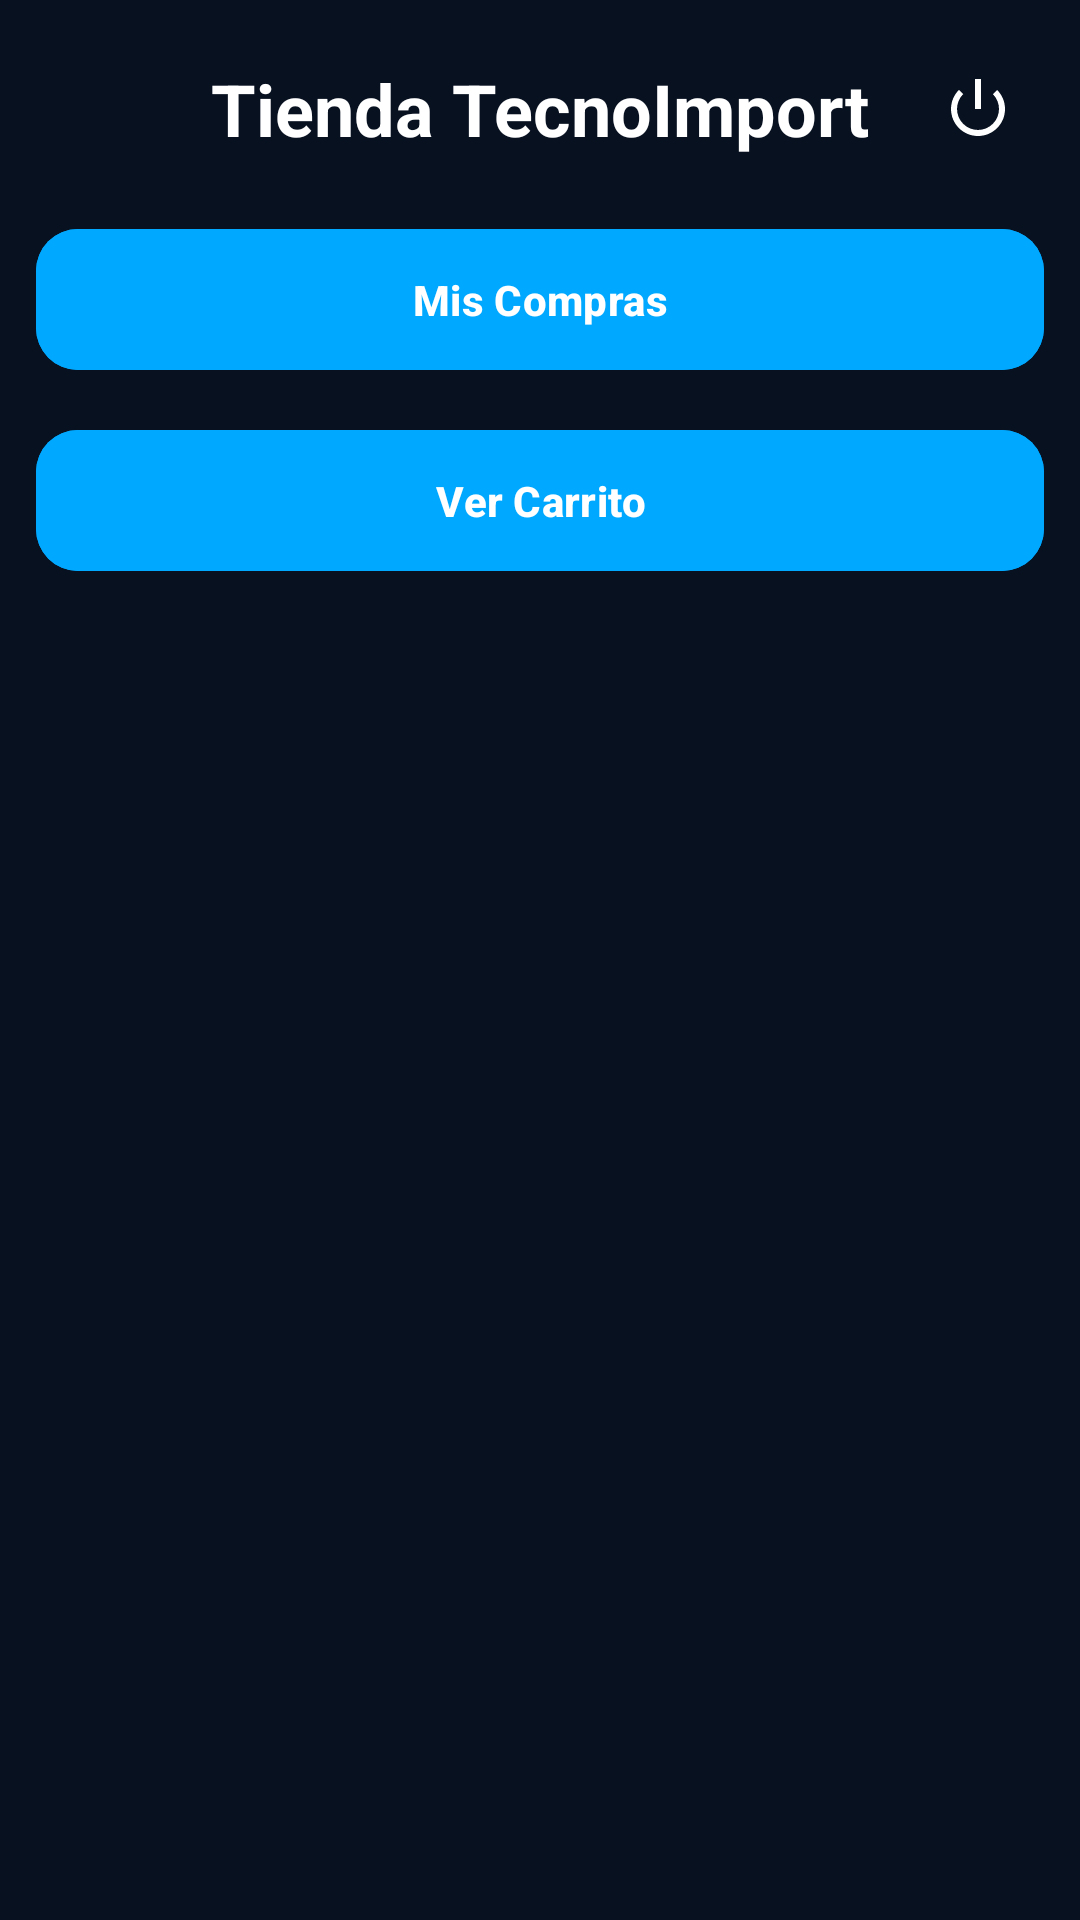

Locate icon controls on the screen. Image size 1080*1920, boxes as {"x1": x1, "y1": y1, "x2": x2, "y2": y2}.
Cerrar sesión: {"x1": 951, "y1": 79, "x2": 1005, "y2": 136}
